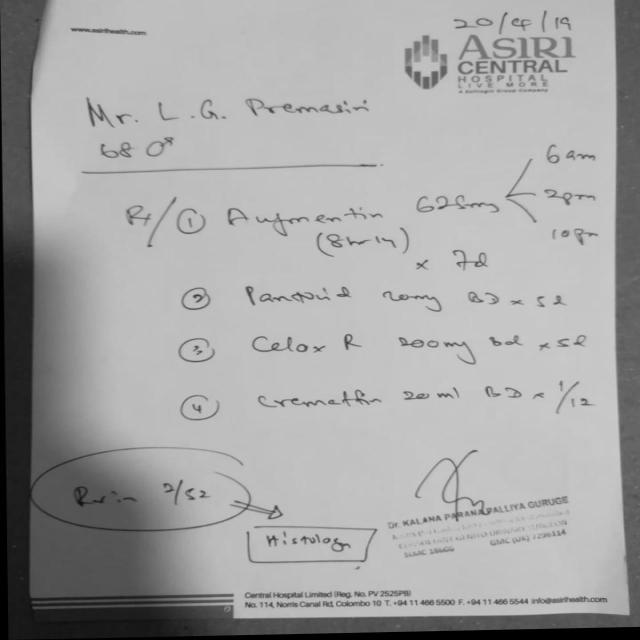Prescription: (218, 192, 506, 282), (243, 326, 590, 368), (249, 384, 593, 424), (235, 281, 564, 319)
